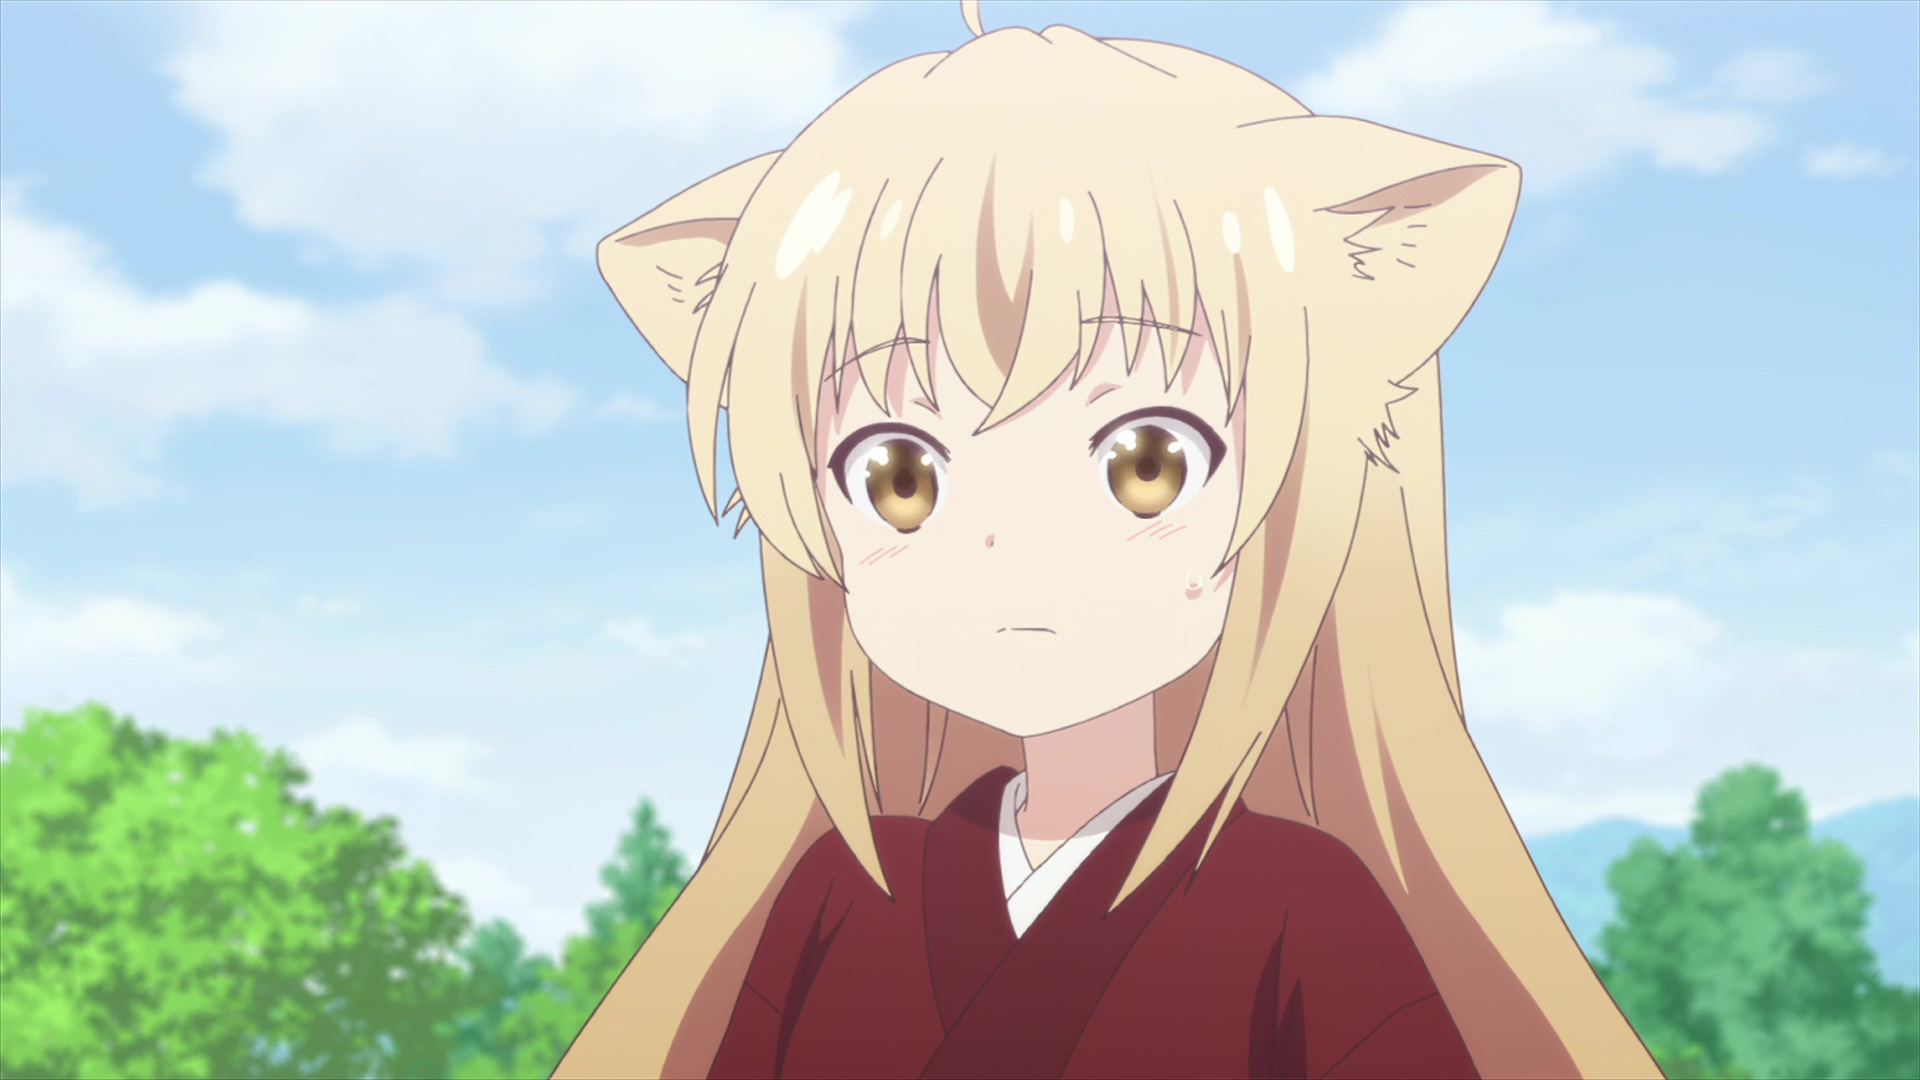柚: (549, 1, 1664, 1080)
